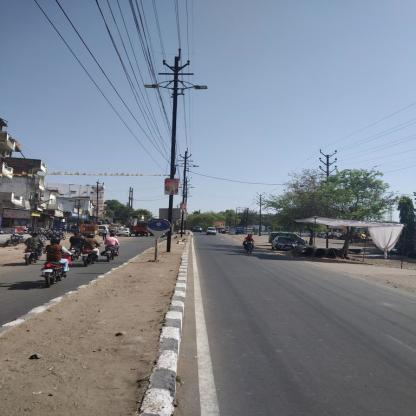Electrical Pole: (138, 50, 208, 254)
